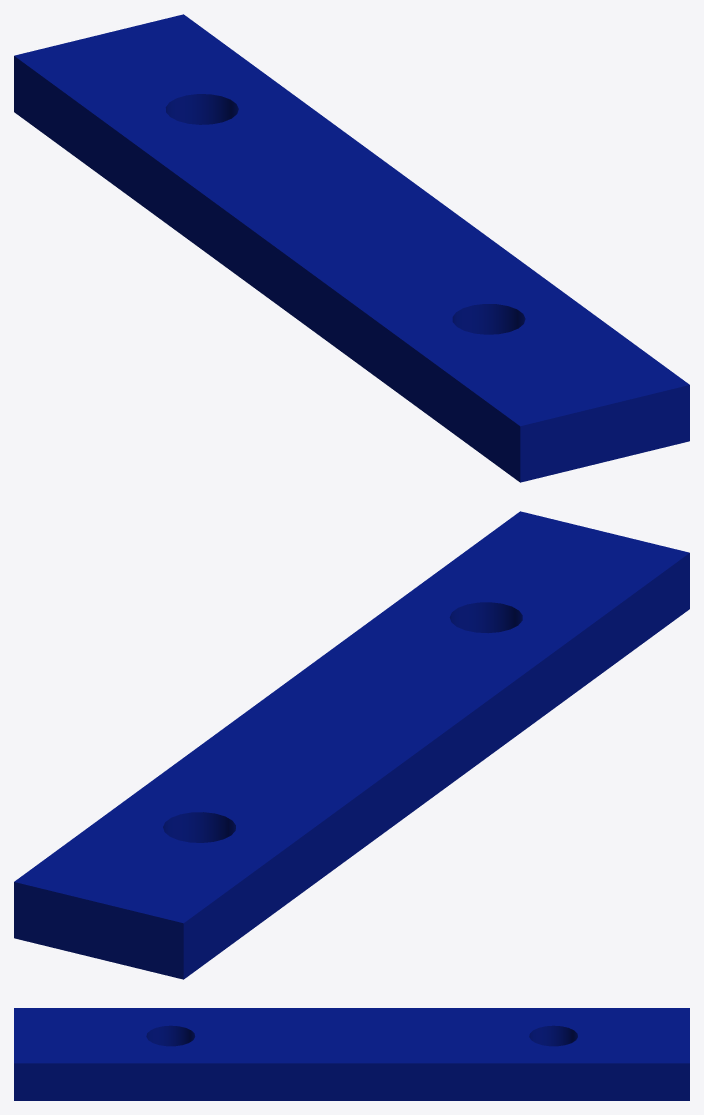
3 views of the same model, one above another, from view 1: azimuth 30°, elevation 25°; view 2: azimuth 150°, elevation 25°; view 3: azimuth 270°, elevation 25° (orthographic). The views are drawn at different scales.
Visible parts, largest first — view 1: sol; view 2: sol; view 3: sol.
Boxes of the visible parts, x1,y1,x2,y2 form: sol: (14, 14, 689, 482); sol: (14, 511, 689, 979); sol: (14, 1008, 689, 1100).
Size of the model in its own units: 0.0945 by 0.03 by 0.4882.
